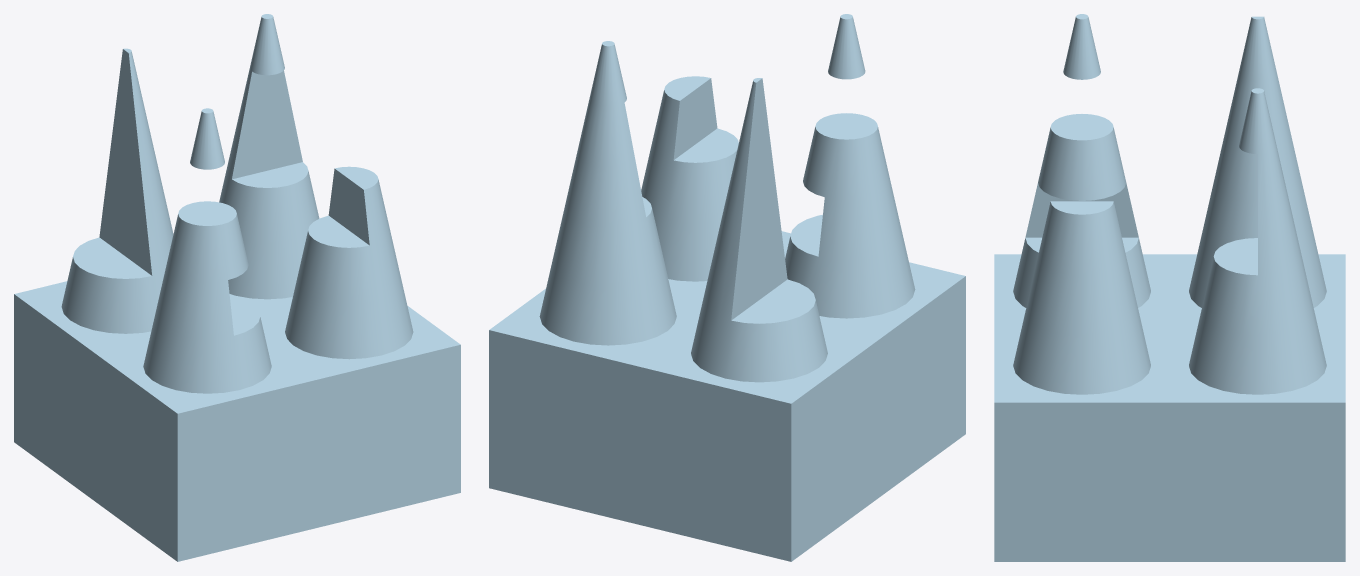
File: GLI_Spikes.FBX
3 views of the same model, side by side, from view 1: azimuth 30°, elevation 25°; view 2: azimuth 150°, elevation 25°; view 3: azimuth 270°, elevation 25° (orthographic). The views are drawn at different scales.
Visible parts, largest first — view 1: Block_1M_Spike_Gli; view 2: Block_1M_Spike_Gli; view 3: Block_1M_Spike_Gli.
Boxes of the visible parts, x1,y1,x2,y2 form: Block_1M_Spike_Gli: (14,14,460,561); Block_1M_Spike_Gli: (489,14,965,561); Block_1M_Spike_Gli: (994,14,1345,561).
Size of the model in its own units: 100 by 136 by 100.
